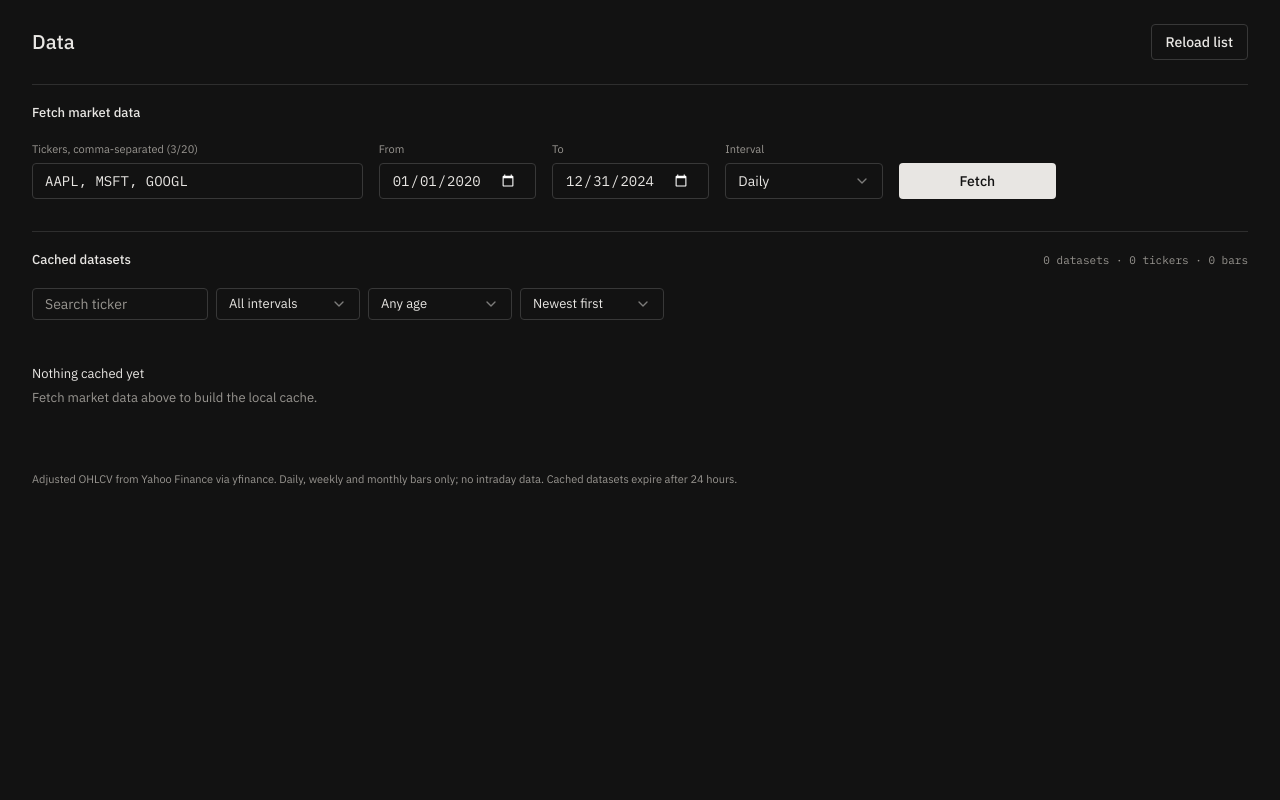
a per-ticker fetch error shows a toast instead of unmounting the page
Replace the text in the field labelled "Tickers, comma-separated (3/20)" with "ZZZZZ" at (197, 181), box [32,163,363,199]
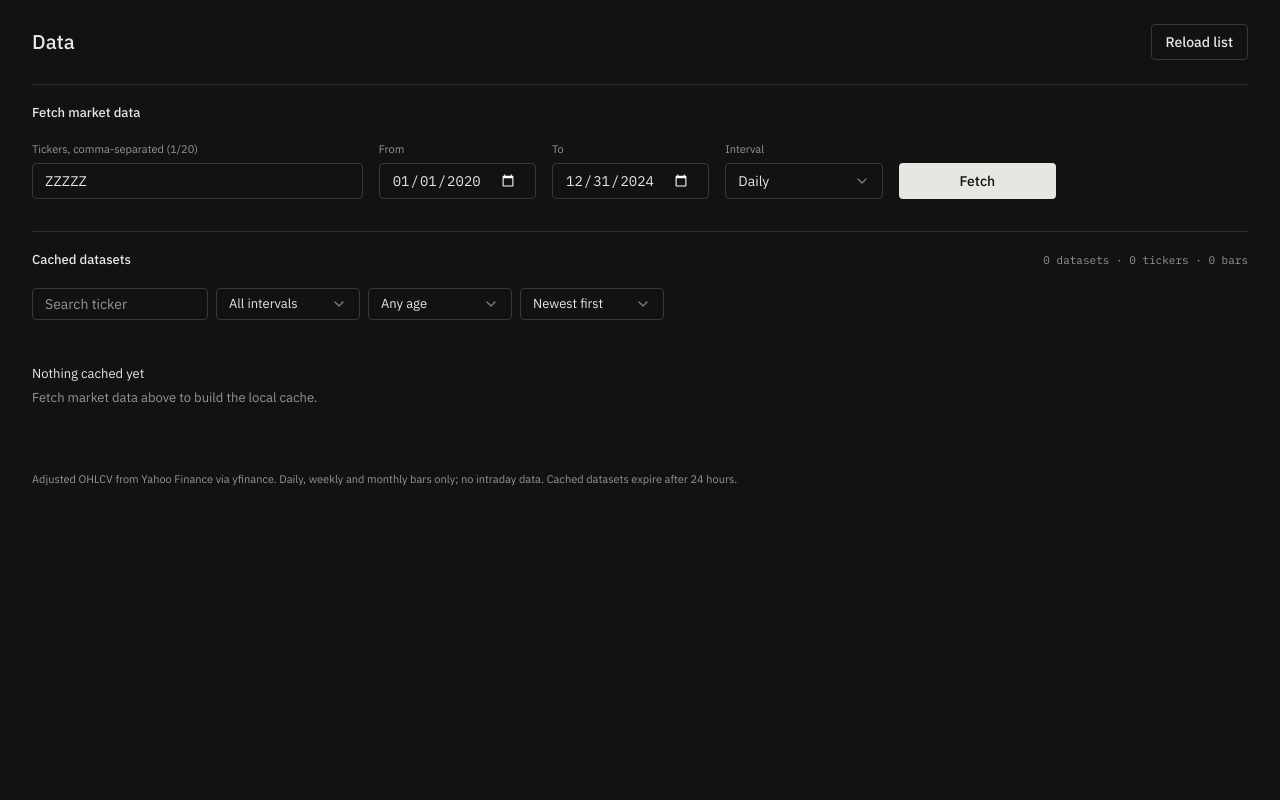
Click the button "Fetch" at (977, 181), box [899,163,1056,199]
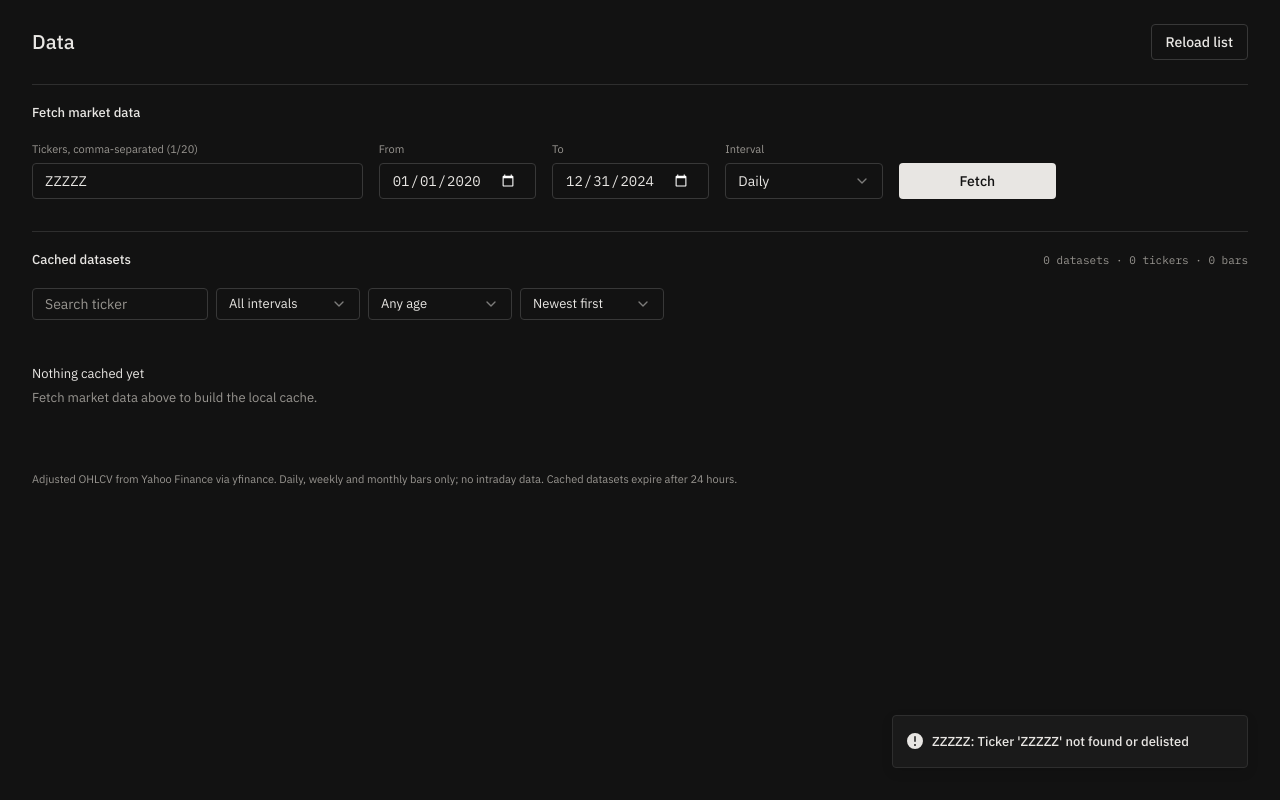
Check: the text "ZZZZZ: Ticker 'ZZZZZ' not found or delisted" is shown, box [932,732,1189,751]
